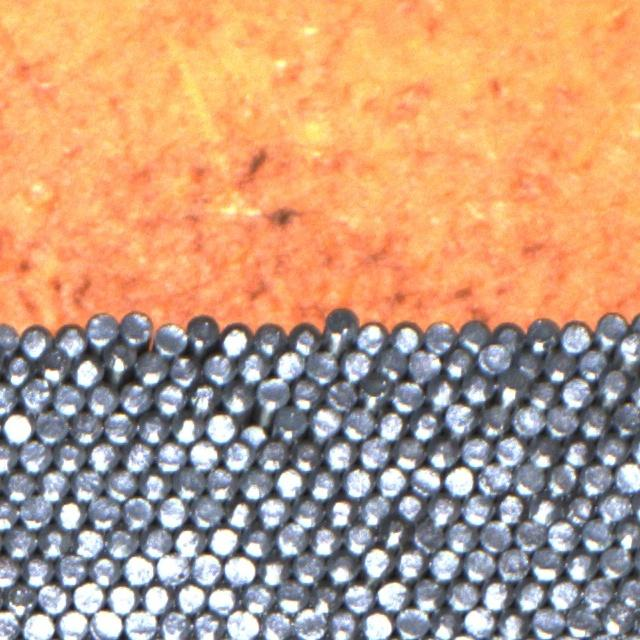tool: (69, 409, 103, 444), (476, 402, 510, 437), (393, 606, 428, 640), (119, 310, 153, 345), (256, 494, 290, 528), (530, 605, 564, 639), (272, 406, 306, 440), (255, 378, 289, 412), (34, 408, 68, 442), (19, 377, 53, 411), (578, 461, 612, 495), (220, 380, 254, 414), (564, 604, 598, 638), (544, 460, 578, 494), (442, 344, 476, 378), (134, 351, 168, 385), (423, 377, 458, 410), (496, 547, 529, 581), (155, 494, 188, 528), (156, 551, 189, 585), (410, 519, 444, 552), (4, 524, 37, 558), (406, 347, 439, 381), (460, 433, 493, 467), (598, 545, 631, 579), (121, 494, 154, 528), (122, 552, 155, 586), (2, 468, 36, 501), (428, 547, 461, 581), (460, 492, 494, 525), (360, 546, 393, 580), (530, 546, 563, 580), (513, 578, 546, 612), (600, 602, 634, 635), (412, 578, 445, 612), (477, 461, 510, 495), (576, 405, 610, 438), (392, 436, 426, 469), (595, 371, 629, 404), (18, 438, 51, 472), (101, 346, 134, 380), (594, 432, 628, 465), (390, 378, 423, 412), (442, 462, 475, 496), (422, 318, 455, 352), (374, 464, 408, 497), (290, 437, 323, 471), (595, 308, 628, 342), (458, 316, 490, 351), (527, 316, 559, 351), (202, 351, 235, 384), (376, 578, 409, 611), (103, 410, 136, 443), (207, 523, 240, 556), (547, 577, 580, 610), (480, 578, 513, 611), (206, 582, 239, 615), (119, 381, 152, 414), (308, 406, 341, 439), (511, 403, 544, 436), (581, 576, 614, 609), (275, 522, 308, 555), (19, 494, 52, 527), (272, 348, 305, 381), (460, 372, 493, 405), (512, 518, 545, 551), (236, 350, 269, 383), (241, 525, 274, 558), (562, 491, 595, 524), (511, 462, 544, 495), (139, 581, 172, 614), (89, 607, 122, 640), (324, 378, 357, 411), (545, 518, 578, 551), (426, 435, 459, 468), (53, 440, 86, 473), (324, 436, 357, 469), (597, 491, 630, 524), (186, 312, 219, 345), (52, 382, 84, 416), (463, 604, 495, 638), (54, 496, 86, 530), (55, 552, 87, 586), (443, 402, 475, 436), (4, 582, 36, 616), (292, 608, 326, 640), (526, 434, 560, 466), (190, 494, 222, 528), (190, 552, 222, 586), (427, 492, 459, 526), (477, 342, 511, 374), (407, 408, 441, 440), (560, 435, 594, 467), (494, 374, 528, 406), (493, 433, 525, 467), (560, 321, 592, 354), (56, 608, 89, 640), (462, 547, 494, 580), (307, 467, 339, 500), (106, 581, 138, 614), (70, 468, 102, 501), (358, 435, 390, 468), (105, 526, 138, 558), (104, 468, 137, 500), (224, 553, 256, 586), (564, 548, 596, 581), (153, 382, 186, 414), (357, 492, 390, 524), (72, 580, 105, 612), (20, 555, 53, 587), (205, 466, 237, 499), (394, 546, 426, 579), (173, 525, 206, 557), (444, 519, 476, 552), (259, 555, 291, 588), (168, 354, 200, 387), (152, 323, 184, 356), (374, 347, 406, 380), (20, 325, 52, 358), (373, 408, 406, 440), (326, 552, 358, 585), (172, 467, 205, 499), (85, 383, 117, 416), (256, 438, 289, 470), (140, 526, 173, 558), (478, 519, 510, 552), (324, 495, 356, 528), (221, 438, 253, 471), (170, 412, 203, 444), (37, 580, 69, 613), (154, 440, 187, 472), (2, 354, 35, 386), (187, 438, 219, 471), (239, 467, 271, 500), (341, 465, 374, 497), (341, 406, 373, 439), (290, 377, 322, 410), (87, 496, 120, 528), (88, 554, 120, 587), (275, 582, 308, 614), (36, 469, 69, 501), (394, 489, 426, 522), (492, 321, 524, 354), (324, 304, 357, 336), (258, 609, 292, 640), (446, 578, 478, 610), (560, 376, 592, 408), (293, 550, 325, 582), (174, 581, 206, 613), (309, 524, 341, 556), (360, 608, 392, 640), (72, 526, 104, 558), (306, 352, 338, 384), (2, 410, 34, 442), (205, 410, 237, 442), (527, 378, 559, 410), (576, 347, 608, 379), (512, 348, 544, 380), (580, 518, 612, 550), (409, 464, 441, 496), (274, 466, 306, 498), (342, 581, 374, 613), (343, 520, 375, 552), (220, 324, 252, 356), (494, 493, 526, 525), (241, 581, 273, 613), (186, 380, 218, 412), (254, 323, 286, 355), (528, 494, 560, 526), (544, 404, 576, 436), (224, 498, 256, 530), (137, 412, 169, 444), (378, 516, 410, 548), (543, 348, 575, 380), (122, 440, 154, 472), (290, 497, 322, 529), (38, 526, 70, 558), (87, 440, 119, 472), (310, 584, 342, 616), (38, 350, 70, 382), (124, 609, 157, 640), (157, 609, 190, 640), (190, 609, 223, 640), (429, 609, 462, 640), (611, 401, 640, 436), (328, 609, 360, 640), (70, 356, 102, 387), (226, 609, 258, 640), (22, 609, 54, 640), (496, 609, 528, 640), (354, 322, 386, 353), (389, 321, 420, 353), (85, 314, 116, 346), (55, 324, 86, 356), (358, 381, 390, 412), (340, 348, 371, 380), (139, 469, 170, 501), (289, 324, 319, 356), (318, 324, 350, 354), (238, 414, 270, 444), (613, 460, 640, 493), (613, 518, 640, 550), (615, 576, 640, 609), (617, 332, 640, 364), (0, 322, 20, 355), (0, 554, 20, 586), (0, 496, 19, 529), (0, 610, 20, 640), (0, 441, 17, 474), (0, 381, 17, 413)
